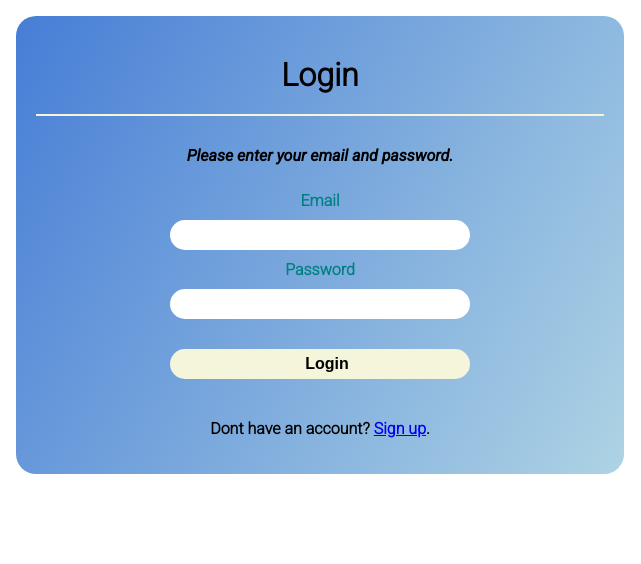
Test Login component › Form inputs errors › should show required email error!
The image size is (641, 564).
Click the button "Login" at (320, 364), box x1=170 y1=349 x2=470 y2=379
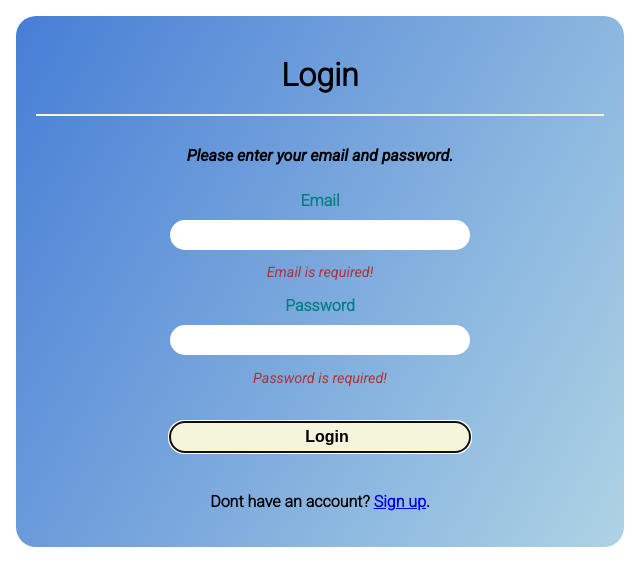
Now the text "Email is required!" is shown, box x1=267 y1=264 x2=373 y2=281
